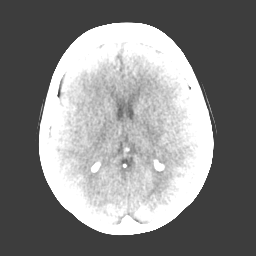ischemic: (177, 98, 192, 113)
